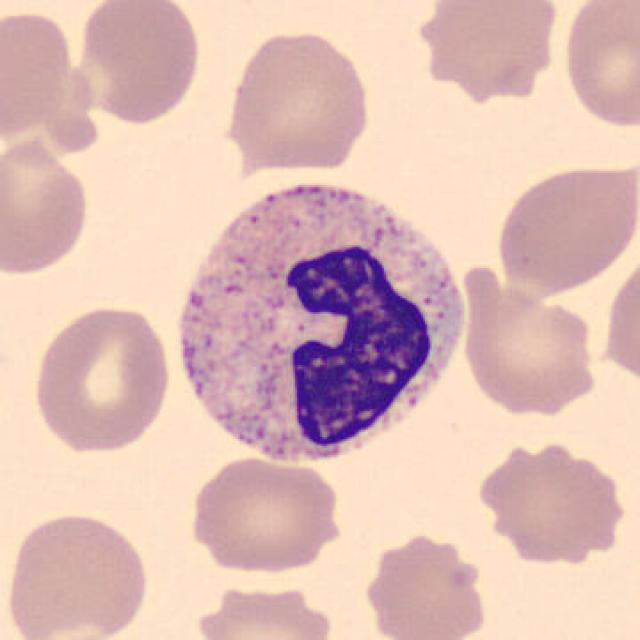Neutrophil: (162, 166, 476, 483)
RBC: (28, 299, 176, 456), (221, 24, 375, 174), (469, 435, 631, 566), (183, 453, 345, 577), (459, 275, 599, 418), (2, 508, 153, 640), (492, 160, 636, 296), (71, 0, 205, 127), (421, 0, 565, 110), (356, 527, 492, 640), (0, 132, 94, 280), (0, 5, 78, 141), (558, 0, 638, 132), (190, 580, 340, 640), (599, 245, 640, 391)
